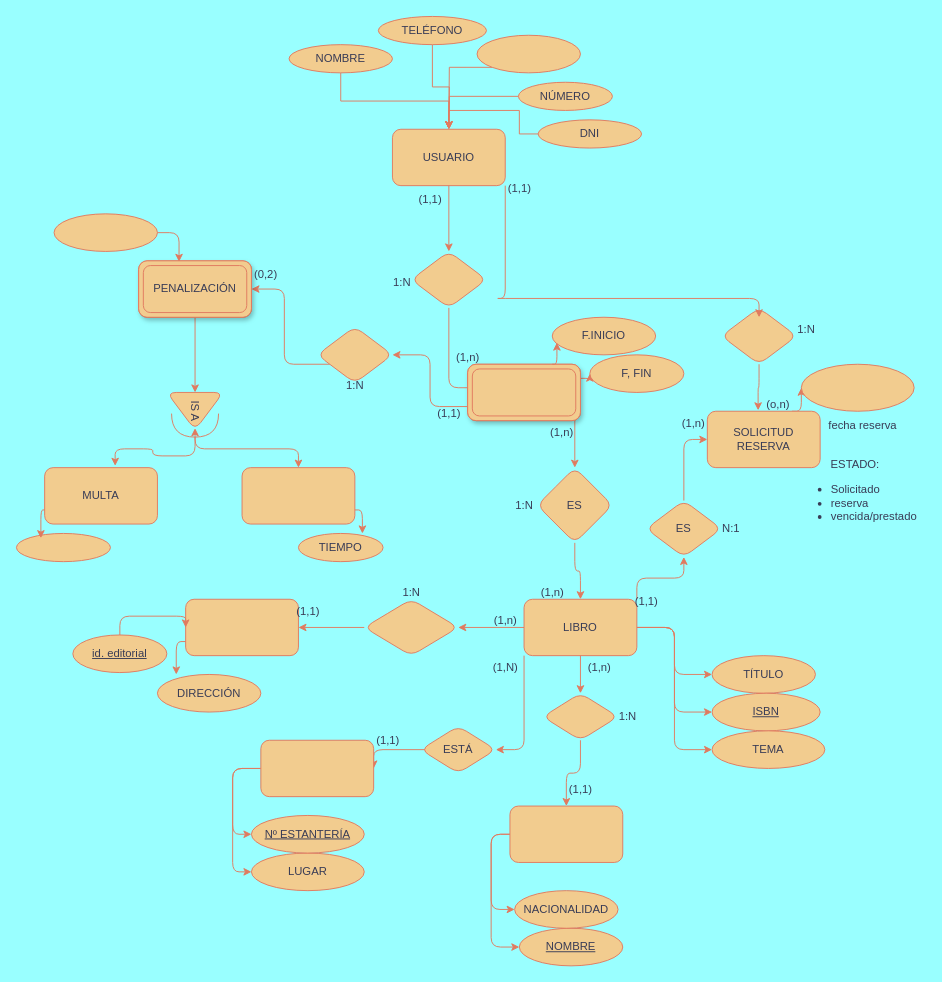
Some shapes in this 942 by 982 pixel diagram are drawn without their labels. Here are the shapes that lost their labels. From the top down, the centre of each, then its label:
At point 528,53: "nº carnet".
At point 105,232: "id.penalizacion".
At point 448,279: "RETIRA".
At point 354,354: "TIENE".
At point 759,335: "REALIZA".
At point 524,393: "PRESTAMO".
At point 857,387: "ID. RESERVA".
At point 298,495: "SUSPENSIÓN".
At point 63,547: "IMPORTE".
At point 241,627: "EDITORIAL".
At point 410,627: "PERTENECE".
At point 580,716: "ES DE".
At point 317,768: "ESTANTERÍA".
At point 566,833: "AUTOR".
